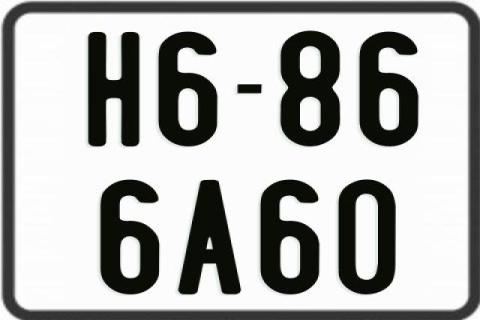0: (357, 32, 422, 150), (335, 177, 398, 297), (99, 179, 162, 297), (157, 32, 219, 150), (260, 180, 321, 298), (280, 28, 342, 144)
A: (178, 179, 245, 295)
H: (86, 31, 140, 148)
